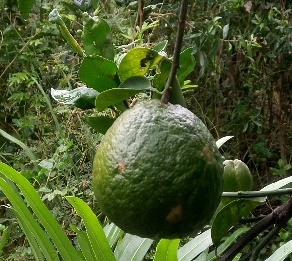Cam: (88, 92, 227, 239)
